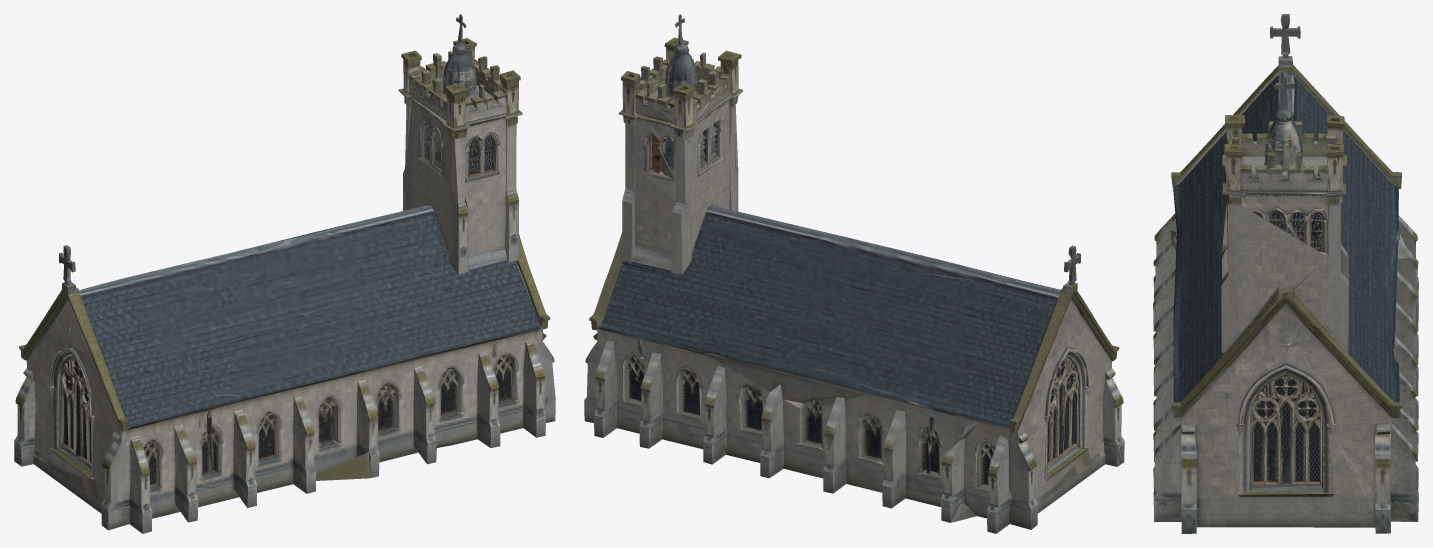
File: church.glb
The picture shows the model from 3 angles, left to right: view 1: azimuth 30°, elevation 25°; view 2: azimuth 150°, elevation 25°; view 3: azimuth 270°, elevation 25°; orthographic projection. The views are drawn at different scales.
Size of the model in its own units: 1.9 by 1.56 by 0.8741.
Materials: 1 (1 with a texture image).
